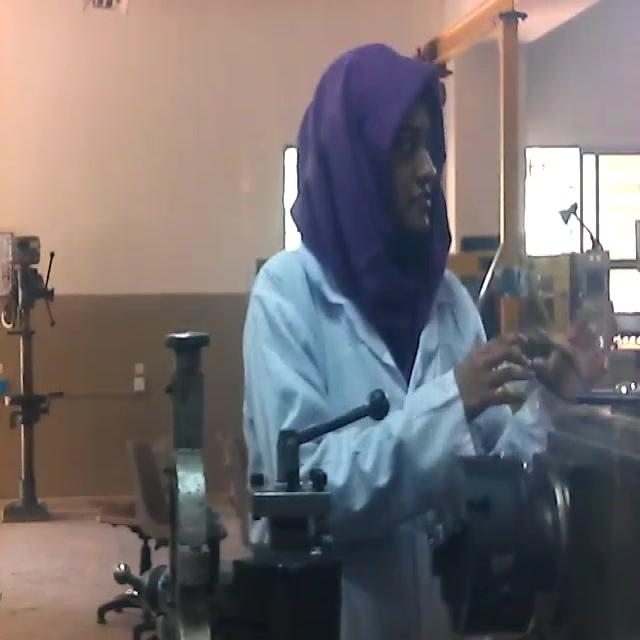labcoat: (241, 236, 567, 640)
